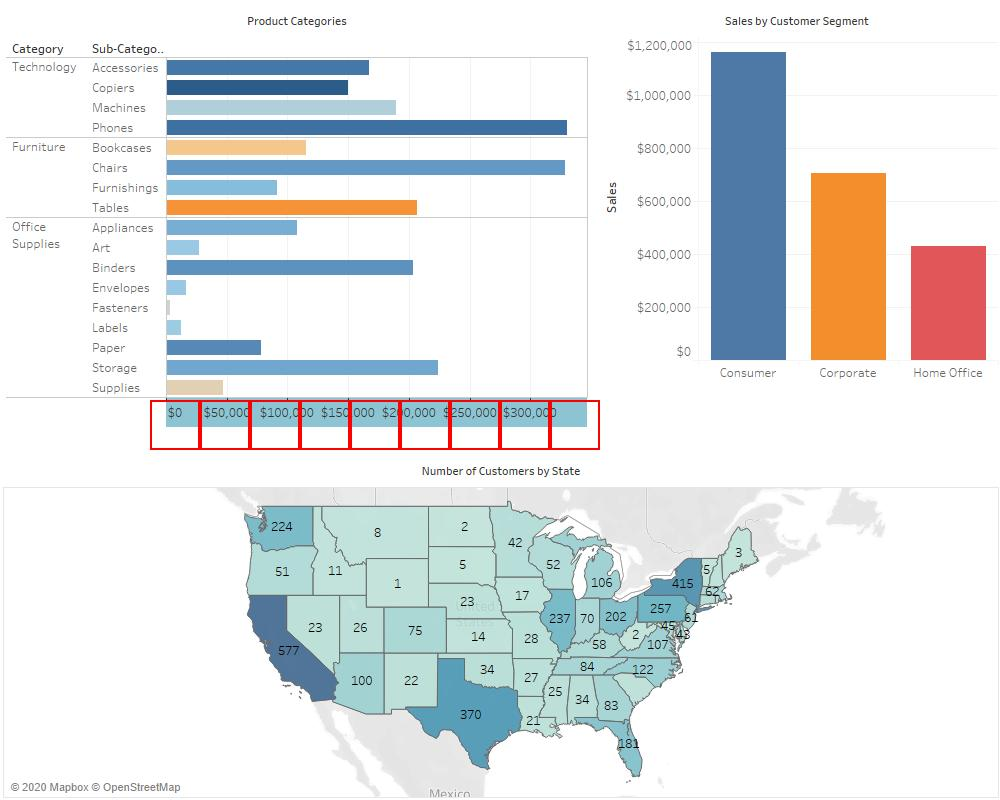

This screenshot's page, from the dashboard's own definition file:
{"tool":"tableau","page":{"name":"Superstore Market","canvas":[1000,800],"ordinal":1},"visuals":[{"type":"worksheet","title":"Categories","mark":"Automatic","rows":["Category","Sub-Category"],"cols":["Sales"],"box":[6,7,582,450]},{"type":"worksheet","title":"Customer Segment","mark":"Automatic","rows":["Sales"],"cols":["Segment"],"box":[596,7,402,393]},{"type":"worksheet","title":"Customer by State","mark":"Automatic","box":[3,457,996,341]}]}

Visuals, with their boxes in screenshot pixels (x1, y1, x2, y2), scaled from the page's 1000x800 canvas onto the 1000x800 screenshot:
"Categories" worksheet: {"left": 6, "top": 7, "right": 588, "bottom": 457}
"Customer Segment" worksheet: {"left": 596, "top": 7, "right": 998, "bottom": 400}
"Customer by State" worksheet: {"left": 3, "top": 457, "right": 999, "bottom": 798}
